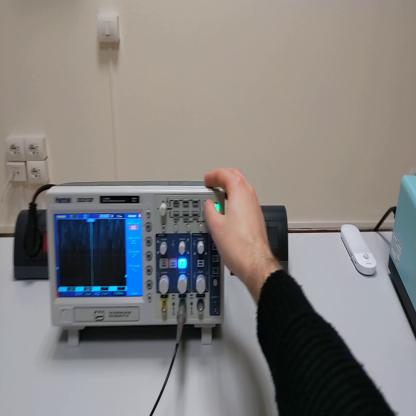hand: (202, 166, 271, 282)
oscilloscope: (50, 182, 227, 345)
socket: (14, 211, 50, 280)
welder station: (389, 173, 416, 338)
